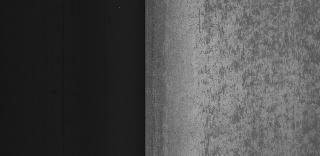silk spot: (190, 2, 320, 148)
